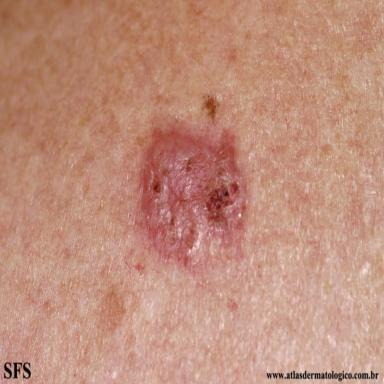basal-cell-carcinoma: (140, 126, 245, 270)
